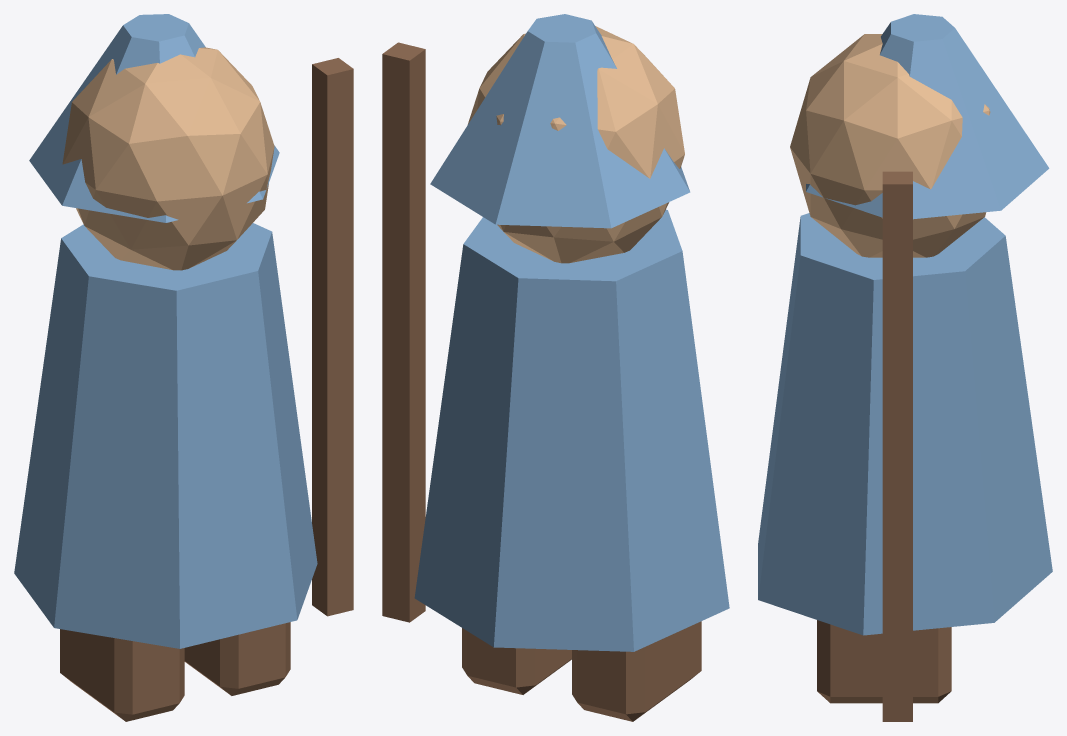
The model's file is agent-2.glb.
3 views of the same model, side by side, from view 1: azimuth 30°, elevation 25°; view 2: azimuth 150°, elevation 25°; view 3: azimuth 270°, elevation 25° (orthographic). The views are drawn at different scales.
Parts seen in each view (by area): view 1: Body, Head, Staff, Boot, Hood, Boot.001; view 2: Body, Hood, Staff, Head, Boot, Boot.001; view 3: Body, Head, Staff, Hood, Boot.001.
Boxes of the visible parts, bbox=[...] form: Body: bbox=[14, 223, 317, 648]; Head: bbox=[62, 47, 274, 270]; Staff: bbox=[312, 58, 353, 616]; Boot: bbox=[60, 629, 184, 721]; Hood: bbox=[29, 14, 279, 222]; Boot.001: bbox=[184, 622, 290, 695]; Body: bbox=[414, 209, 729, 651]; Hood: bbox=[430, 14, 690, 228]; Staff: bbox=[382, 42, 425, 622]; Head: bbox=[467, 26, 684, 263]; Boot: bbox=[572, 621, 701, 721]; Boot.001: bbox=[462, 628, 571, 694]; Body: bbox=[758, 213, 1052, 635]; Head: bbox=[790, 34, 990, 257]; Staff: bbox=[882, 171, 912, 721]; Hood: bbox=[806, 14, 1049, 219]; Boot.001: bbox=[817, 620, 951, 703].
Bounding box in the file's own units: 0.5267 × 1.05 × 0.4372.
